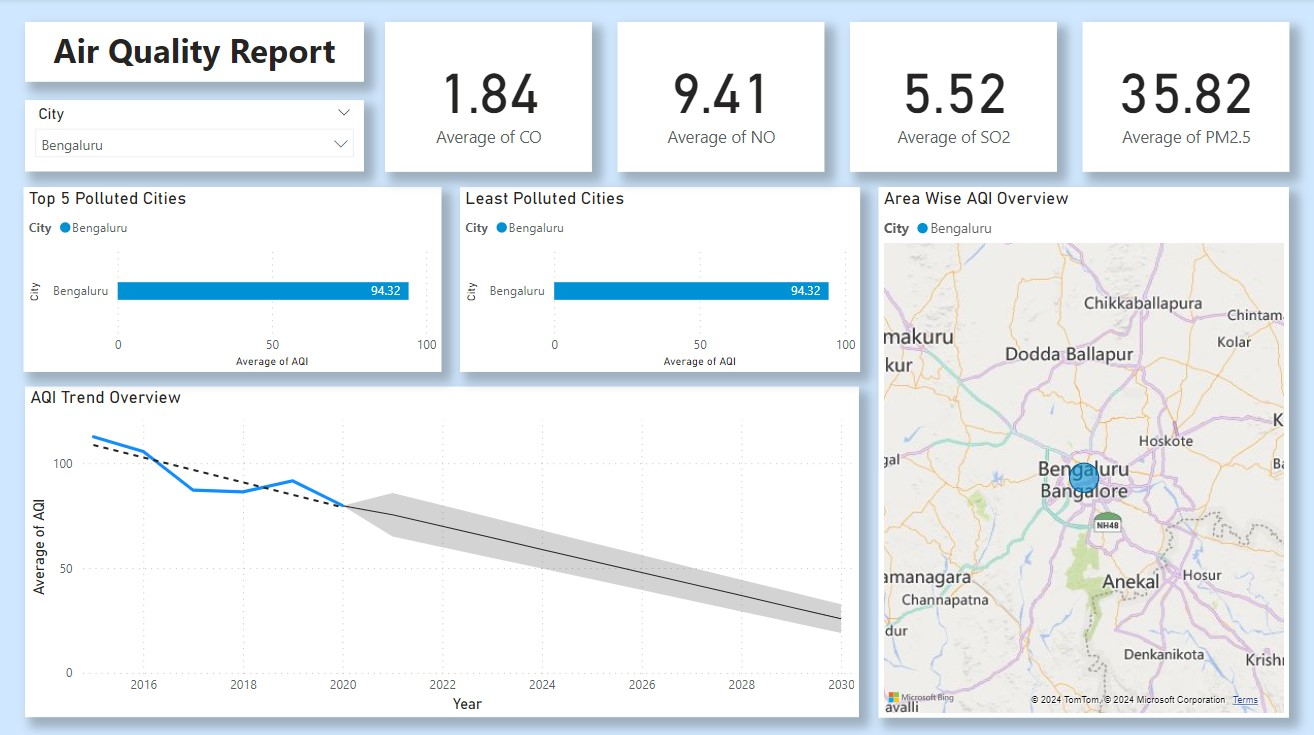

This screenshot's page, from the dashboard's own definition file:
{"tool":"powerbi","page":{"name":"Page 1","canvas":[1280,720],"ordinal":0},"visuals":[{"type":"lineChart","title":"AQI Trend Overview","fields":{"Category":["city_day.Date.Variation.Date Hierarchy.Year","city_day.Date.Variation.Date Hierarchy.Quarter","city_day.Date.Variation.Date Hierarchy.Month","city_day.Date.Variation.Date Hierarchy.Day"],"Y":["Avg(city_day.AQI)"]},"box":[25.9,377,809,320.4],"z":0},{"type":"slicer","fields":{"Values":["city_day.City"]},"box":[25.9,98.7,328.4,69.6],"z":1000},{"type":"barChart","title":"Top 5 Polluted Cities","fields":{"Category":["city_day.City"],"Y":["Avg(city_day.AQI)"],"Series":["city_day.City"]},"box":[25.4,183.1,405.1,179.7],"z":2000},{"type":"barChart","title":"Least Polluted Cities","fields":{"Category":["city_day.City"],"Y":["Avg(city_day.AQI)"],"Series":["city_day.City"]},"box":[447.5,183.1,388.1,179.7],"z":3000},{"type":"card","fields":{"Values":["Avg(city_day.CO)"]},"box":[375.4,22.7,200.6,145.6],"z":4000},{"type":"card","fields":{"Values":["Avg(city_day.NO)"]},"box":[600.8,22.7,200.6,145.6],"z":5000},{"type":"card","fields":{"Values":["Avg(city_day.SO2)"]},"box":[826.2,22.7,200.6,145.6],"z":6000},{"type":"card","fields":{"Values":["Avg(city_day.PM2.5)"]},"box":[1051.7,22.7,200.6,145.6],"z":7000},{"type":"map","title":"Area Wise AQI Overview","fields":{"Category":["city_day.City"],"Size":["Avg(city_day.AQI)"],"Series":["city_day.City"]},"box":[854.3,182.8,398,514.5],"z":8000},{"type":"textbox","box":[25.9,22.7,328.4,58.2],"z":9000}]}

Visuals, with their boxes in screenshot pixels (x1, y1, x2, y2), scaled from the page's 1280x720 canvas onto the 1314x735 screenshot:
"AQI Trend Overview" lineChart: BBox(27, 385, 857, 712)
slicer - city_day.City: BBox(27, 101, 364, 172)
"Top 5 Polluted Cities" barChart: BBox(26, 187, 442, 370)
"Least Polluted Cities" barChart: BBox(459, 187, 858, 370)
card - Avg(city_day.CO): BBox(385, 23, 591, 172)
card - Avg(city_day.NO): BBox(617, 23, 823, 172)
card - Avg(city_day.SO2): BBox(848, 23, 1054, 172)
card - Avg(city_day.PM2.5): BBox(1080, 23, 1286, 172)
"Area Wise AQI Overview" map: BBox(877, 187, 1286, 712)
textbox: BBox(27, 23, 364, 83)
